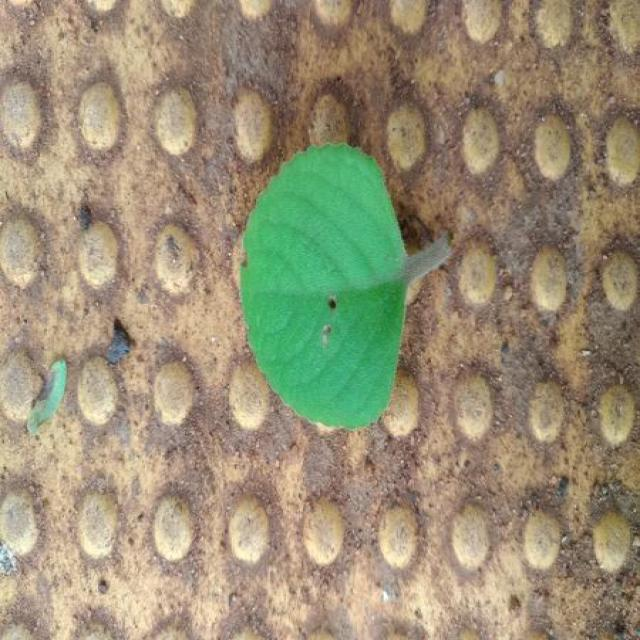doddpathre: (240, 144, 450, 428)
